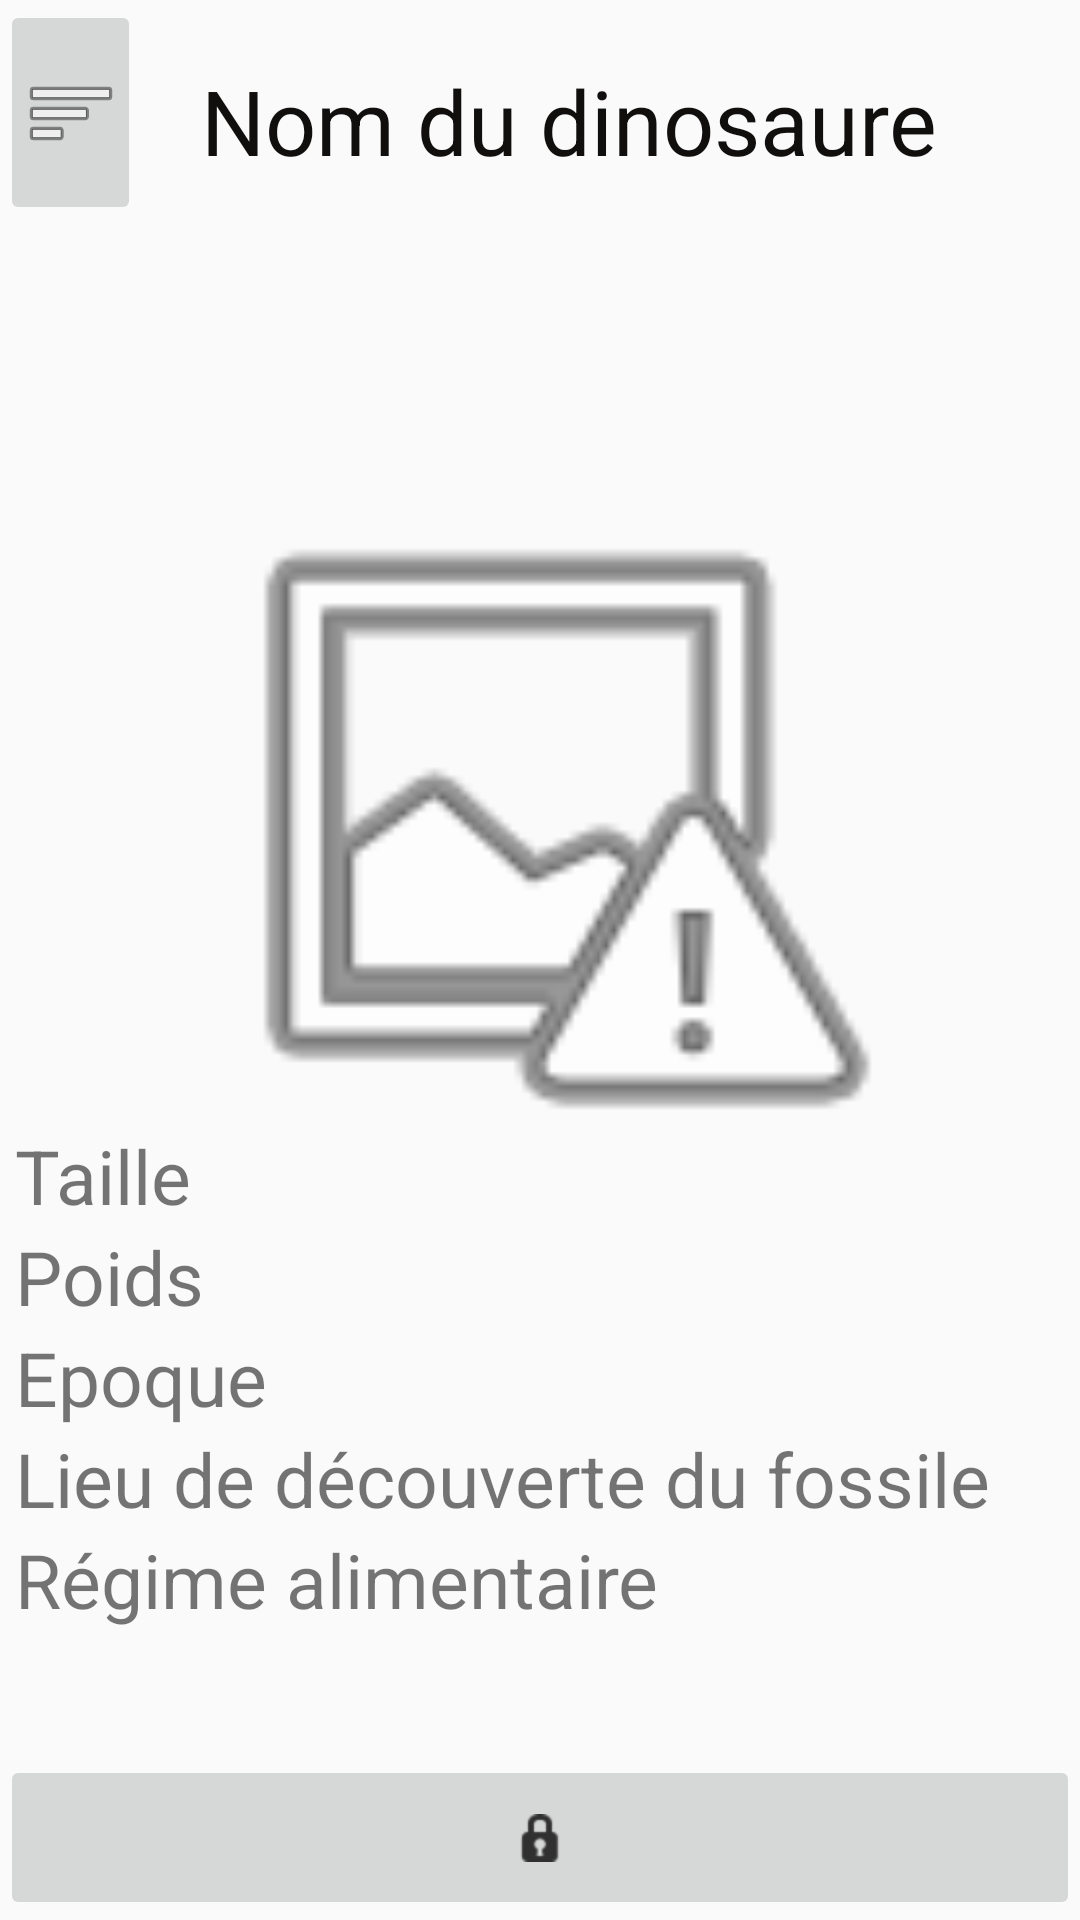

Where to tap for icons on this 1080w x 1920h app screen, as [x,y]:
sort by size: [70,112]
